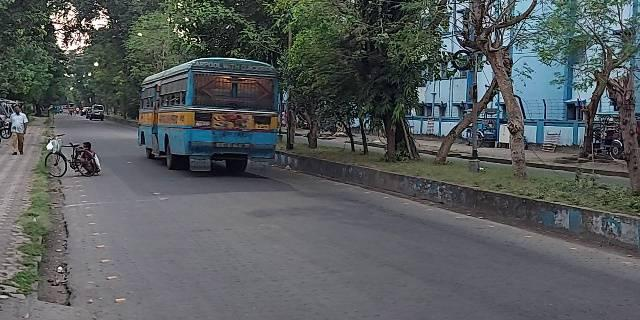Bus: (142, 59, 282, 170)
Cycle: (42, 144, 98, 176)
